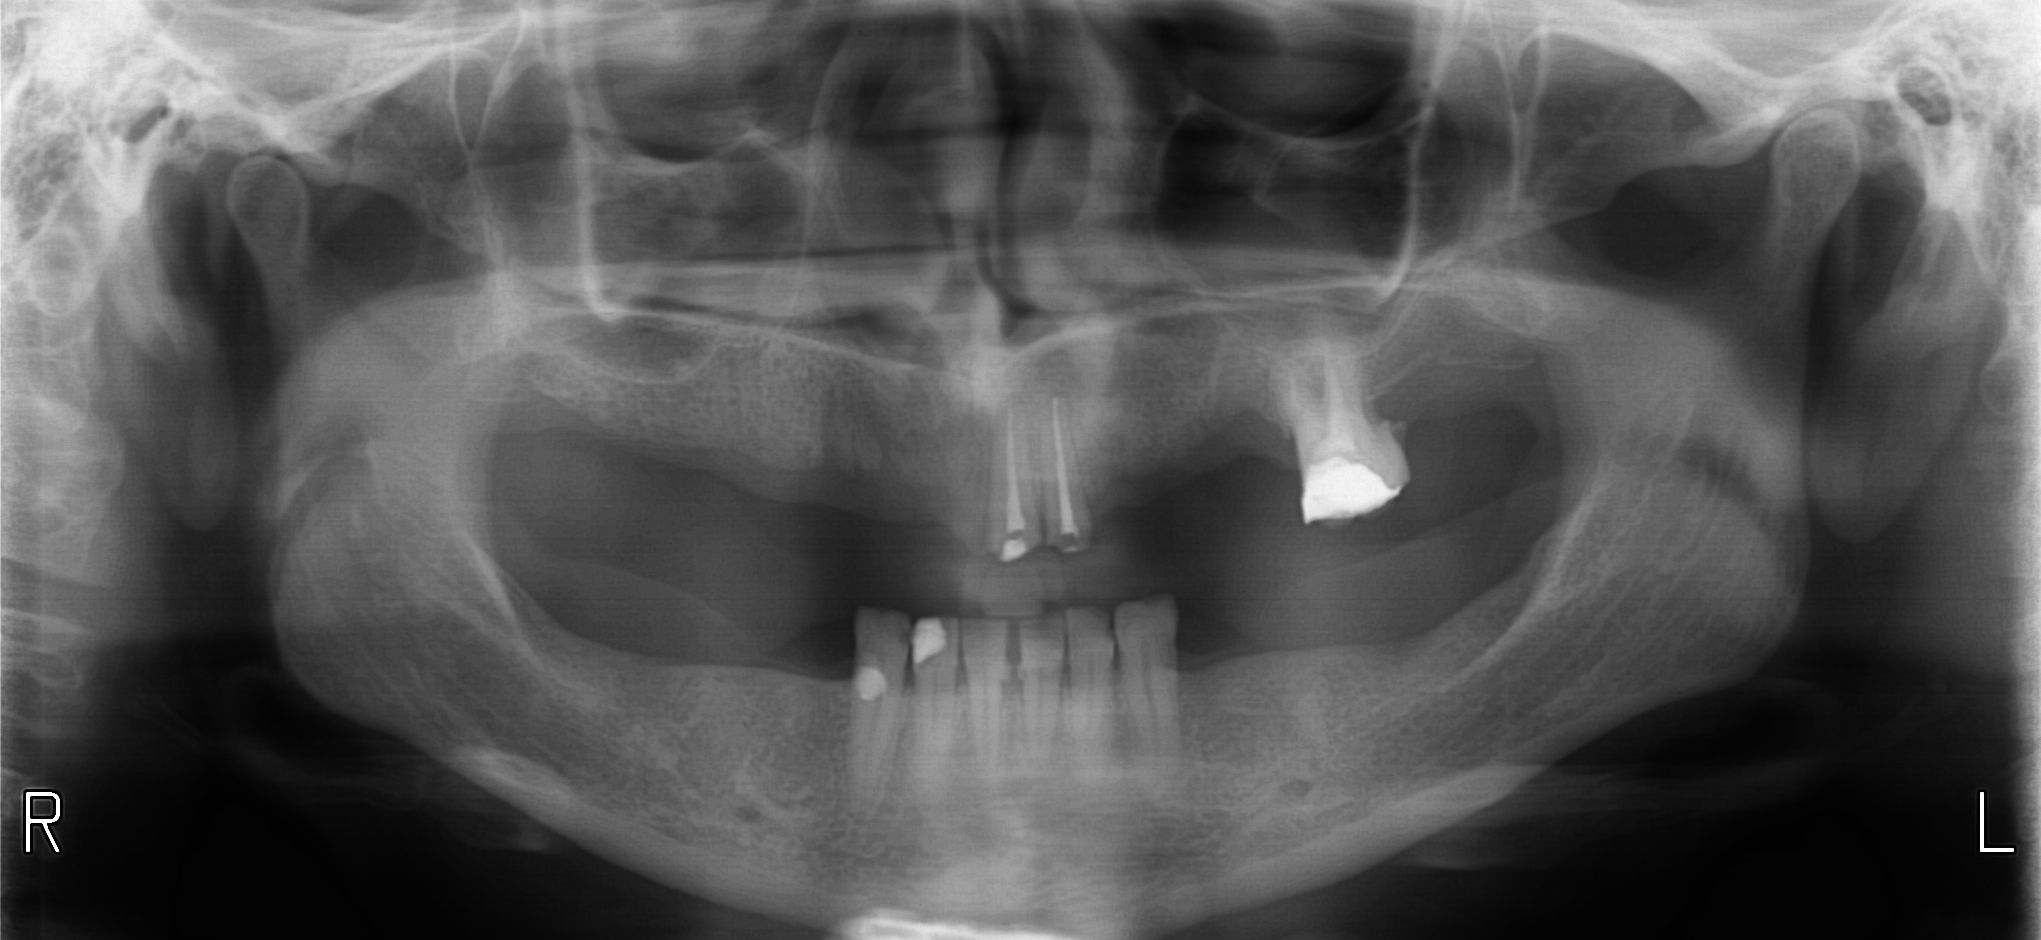cavity: (902, 630, 905, 641)
